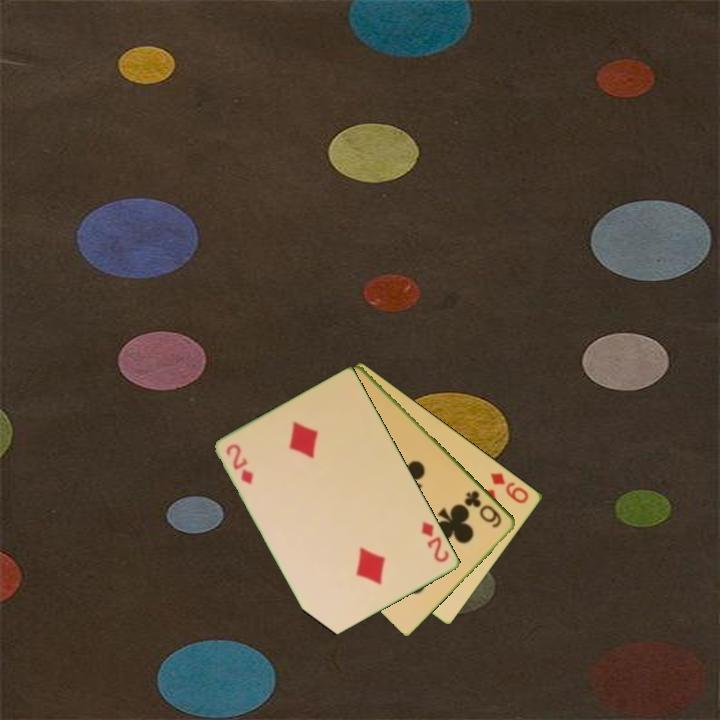2d: (418, 518, 452, 566), (223, 440, 257, 488)
6c: (461, 487, 505, 531)
9d: (487, 469, 532, 507)
